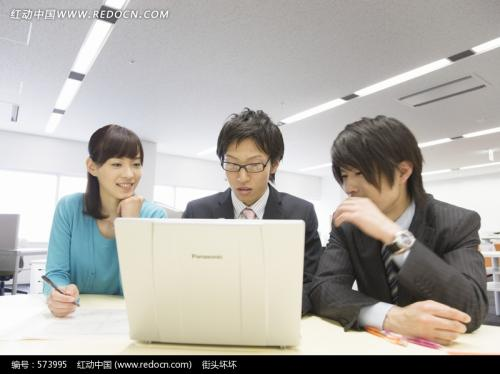no_mask: (328, 114, 425, 213), (213, 106, 285, 204), (81, 121, 143, 201)
